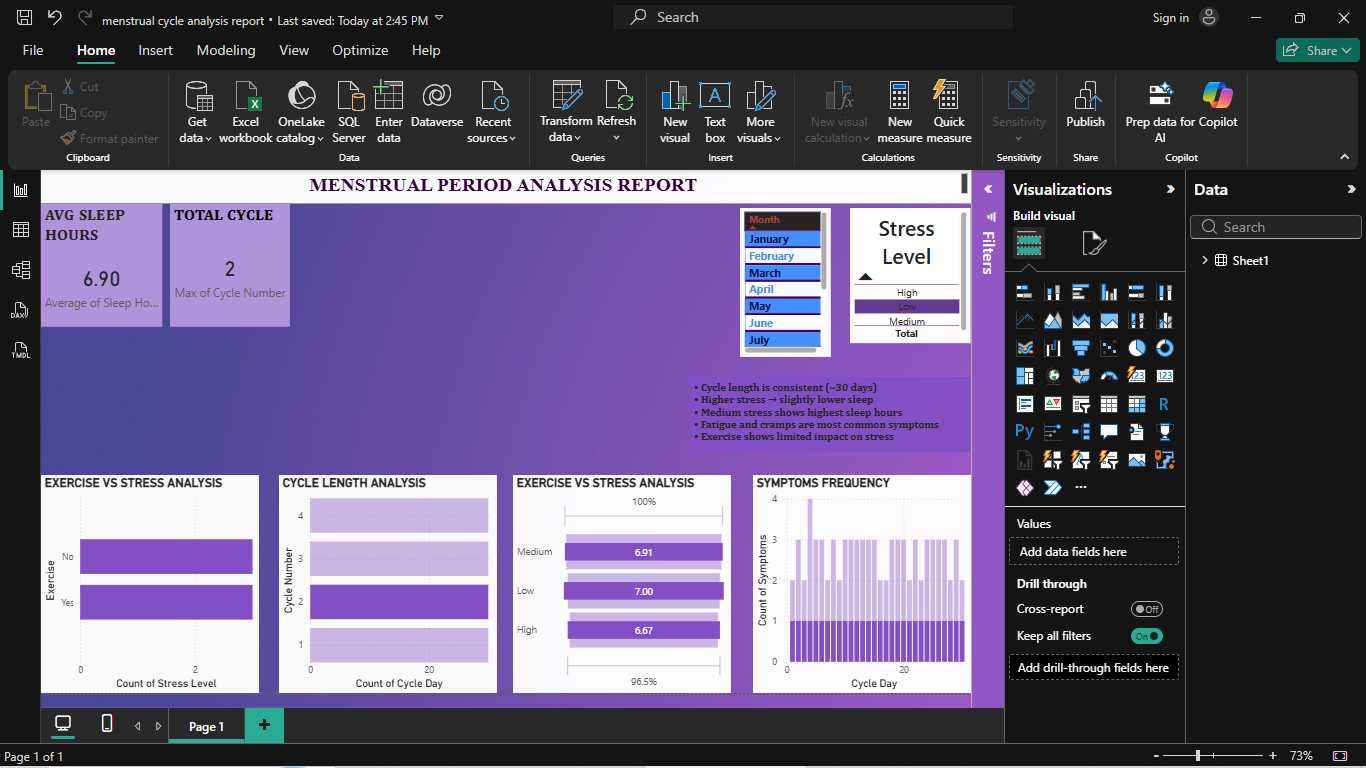

What the dashboard file says about the page in this screenshot:
{"tool":"powerbi","page":{"name":"Page 1","canvas":[1280,720],"ordinal":0},"visuals":[{"type":"clusteredBarChart","title":"CYCLE LENGTH ANALYSIS","fields":{"Category":["Sheet1.Cycle Number"],"Y":["Count(Sheet1.Cycle Day)"]},"box":[327.6,419.8,300,300],"z":0},{"type":"funnel","title":"EXERCISE VS STRESS ANALYSIS","fields":{"Category":["Sheet1.Stress Level"],"Y":["Avg(Sheet1.Sleep Hours)"]},"box":[649.6,419.8,300,300],"z":1000},{"type":"columnChart","title":"SYMPTOMS FREQUENCY","fields":{"Category":["Sheet1.Cycle Day"],"Y":["Count(Sheet1.Symptoms)"]},"box":[980,419.8,300,300],"z":2000},{"type":"clusteredBarChart","title":"EXERCISE VS STRESS ANALYSIS","fields":{"Category":["Sheet1.Exercise"],"Y":["Count(Sheet1.Stress Level)"]},"box":[0,419.8,300,300],"z":3000},{"type":"textbox","box":[0,0,1280,46.2],"z":4000},{"type":"tableEx","fields":{"Values":["Sheet1.Date.Variation.Date Hierarchy.Month"]},"box":[962.1,52.3,125.2,205.1],"z":5000},{"type":"tableEx","fields":{"Values":["Sheet1.Stress Level"]},"box":[1113.8,52.5,166.2,186.2],"z":6000},{"type":"card","title":"AVG SLEEP HOURS","fields":{"Values":["Avg(Sheet1.Sleep Hours)"]},"box":[0,46.8,166.5,169.3],"z":7000},{"type":"card","title":"TOTAL CYCLE","fields":{"Values":["Max(Sheet1.Cycle Number)"]},"box":[181.7,46.8,165.2,169.3],"z":8000},{"type":"textbox","box":[893.2,284.9,386.8,103.2],"z":9000}]}

Visuals, with their boxes on the page's 1280x720 design canvas (x1, y1, x2, y2). These are canvas units, not pixel positions in the 1366x768 screenshot, which may show the page scaled, cropped or inside an application window:
"CYCLE LENGTH ANALYSIS" clusteredBarChart: (328,420,628,720)
"EXERCISE VS STRESS ANALYSIS" funnel: (650,420,950,720)
"SYMPTOMS FREQUENCY" columnChart: (980,420,1280,720)
"EXERCISE VS STRESS ANALYSIS" clusteredBarChart: (0,420,300,720)
textbox: (0,0,1280,46)
tableEx - Sheet1.Date.Variation.Date Hierarchy.Month: (962,52,1087,257)
tableEx - Sheet1.Stress Level: (1114,52,1280,239)
"AVG SLEEP HOURS" card: (0,47,166,216)
"TOTAL CYCLE" card: (182,47,347,216)
textbox: (893,285,1280,388)
